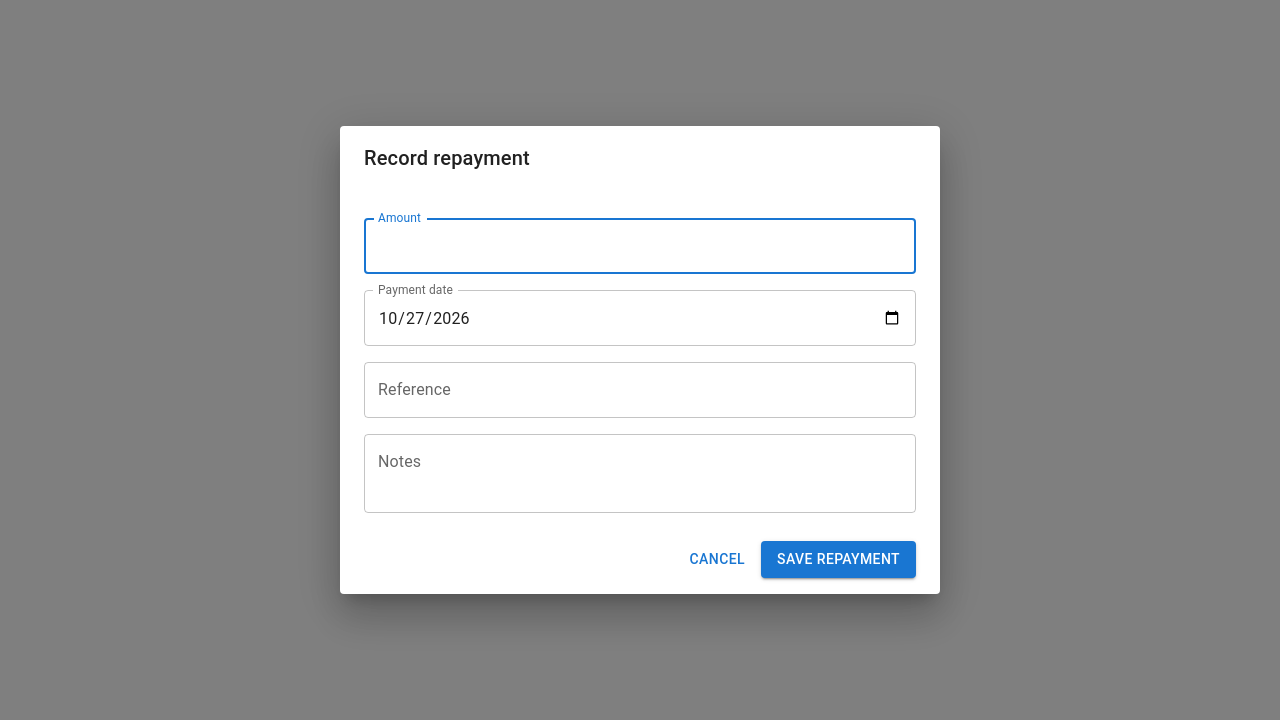
RepaymentDialog validation › does not submit a future payment date
Type "5000" into the field labelled "Amount" at {"x": 640, "y": 246}, box x1=364 y1=218 x2=916 y2=274
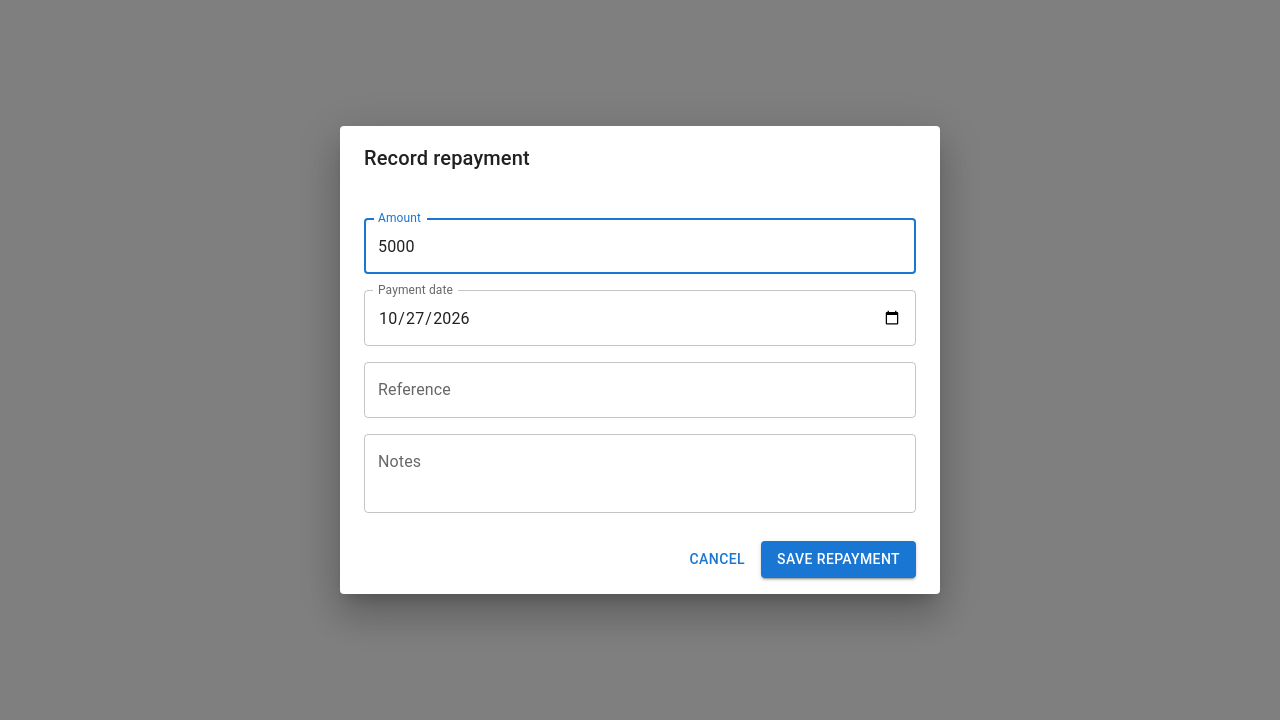
Type "2999-01-01" into the date field labelled "Payment date" at {"x": 640, "y": 318}, box x1=364 y1=290 x2=916 y2=346
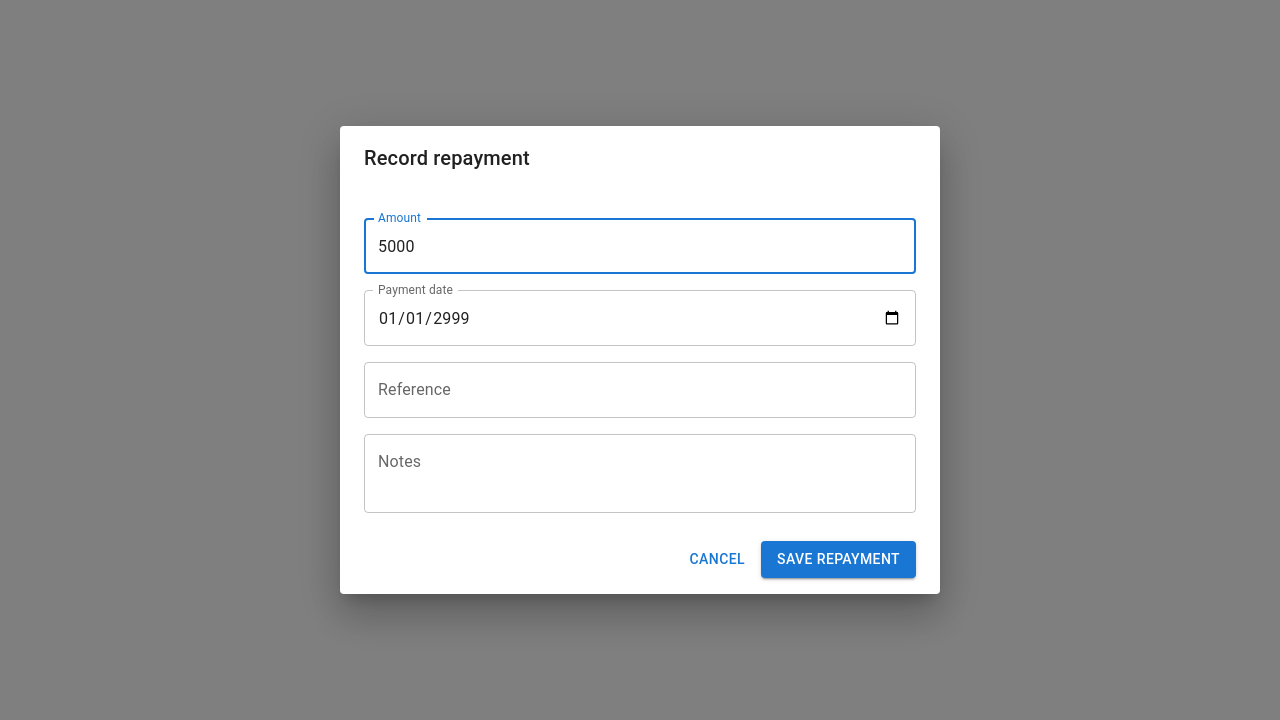
Click the button "Save repayment" at {"x": 838, "y": 560}, box x1=761 y1=541 x2=916 y2=578
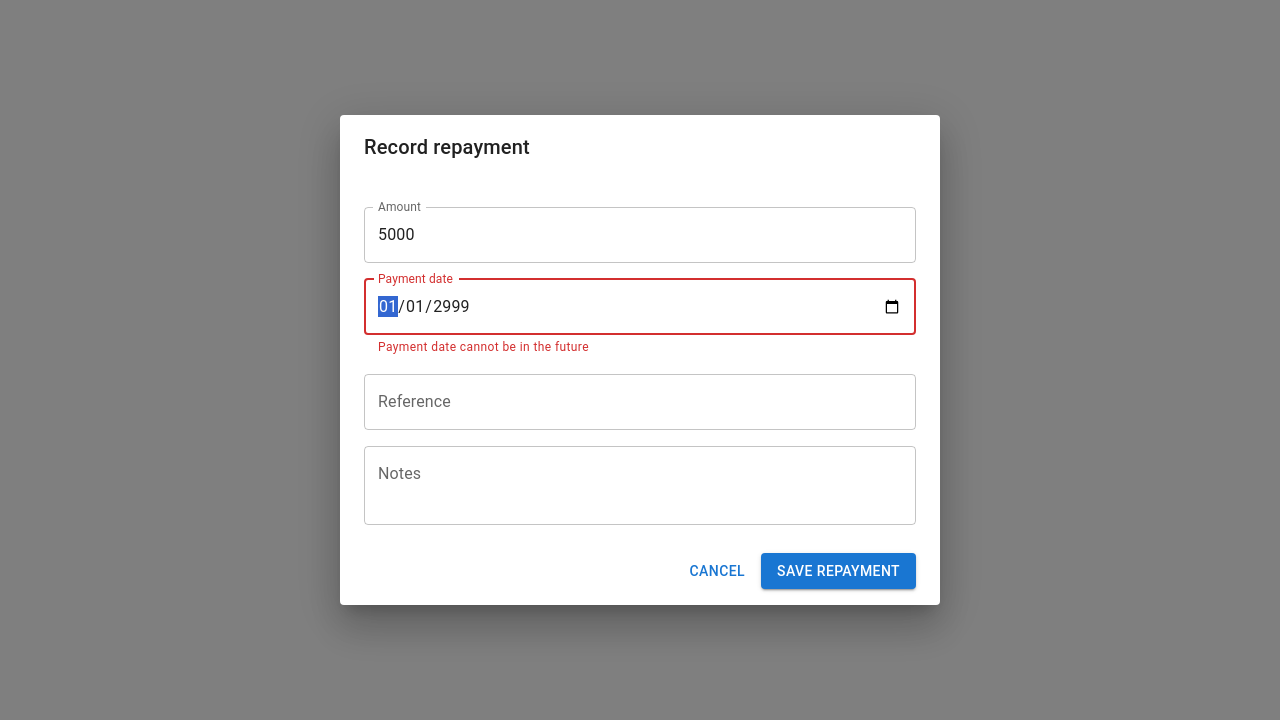
Expected: the text "Payment date cannot be in the future" is shown, x1=378 y1=340 x2=589 y2=354
